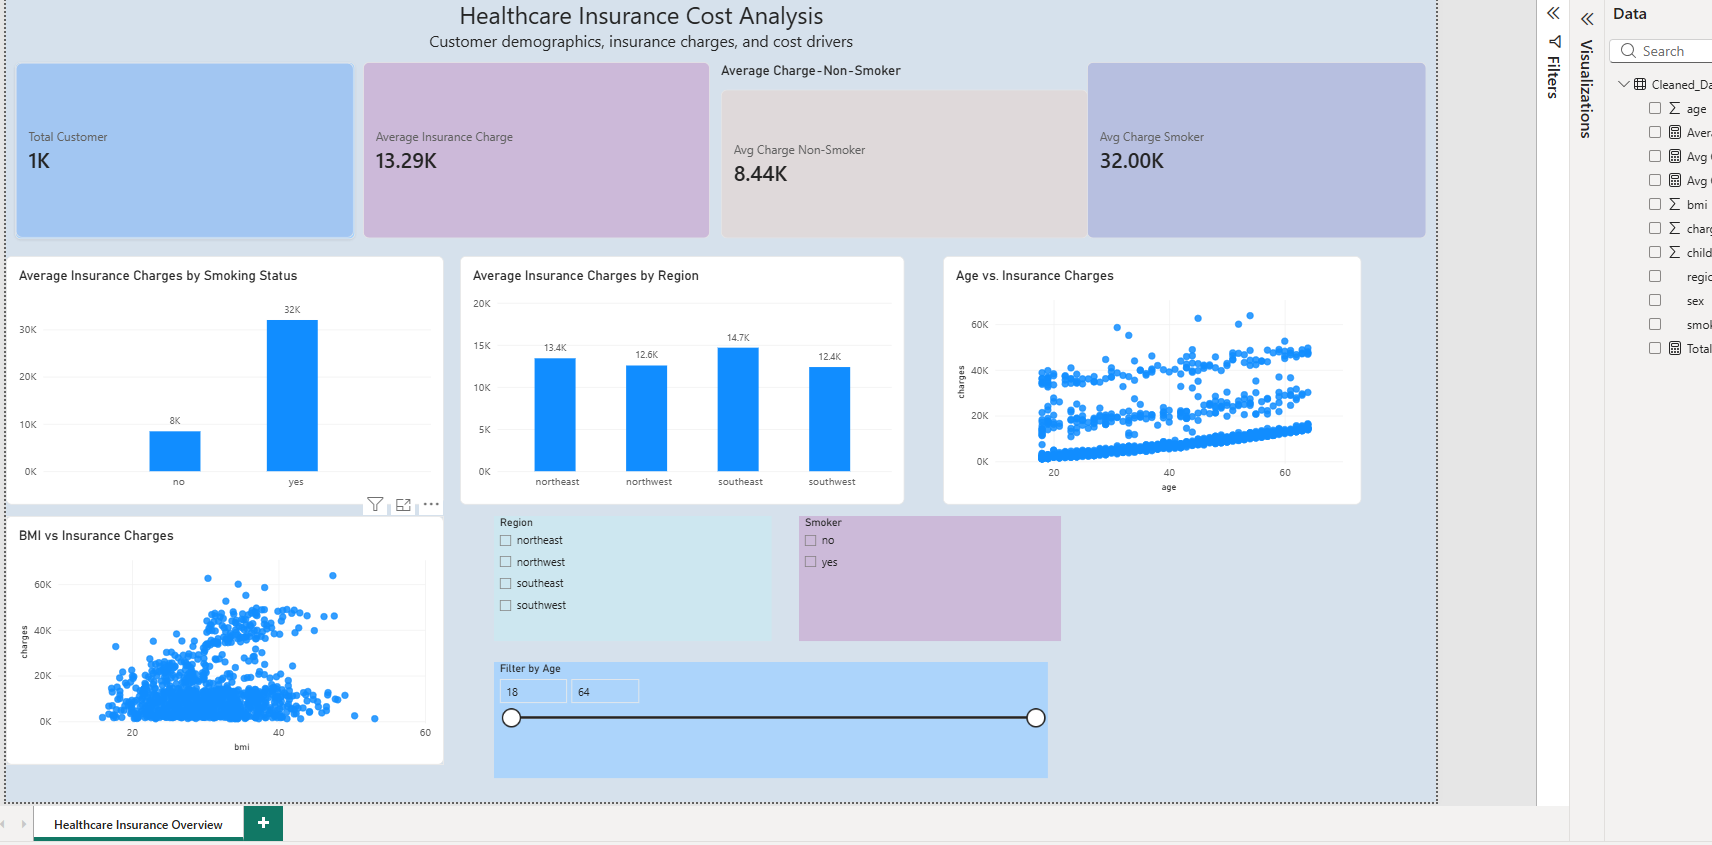

What the dashboard file says about the page in this screenshot:
{"tool":"powerbi","page":{"name":"Healthcare Insurance Overview","canvas":[1920,1080],"ordinal":0},"visuals":[{"type":"cardVisual","fields":{"Data":["Cleaned_Dat.Total Customer"]},"box":[11.7,86.1,456.7,237.8],"z":0},{"type":"cardVisual","fields":{"Data":["Cleaned_Dat.Average Insurance Charge"]},"box":[480,86.1,466.9,237.8],"z":1},{"type":"cardVisual","title":"Average Charge-Non-Smoker","fields":{"Data":["Cleaned_Dat.Avg Charge Non-Smoker"]},"box":[960,86.1,493.1,237.8],"z":2},{"type":"cardVisual","fields":{"Data":["Cleaned_Dat.Avg Charge Smoker"]},"box":[1451.7,86.1,456.7,237.8],"z":4},{"type":"clusteredColumnChart","title":"Average Insurance Charges by Smoking Status","fields":{"Category":["Cleaned_Dat.smoker"],"Y":["Avg(Cleaned_Dat.charges)"]},"box":[0,347.2,588,334.1],"z":5},{"type":"clusteredColumnChart","title":"Average Insurance Charges by Region","fields":{"Category":["Cleaned_Dat.region"],"Y":["Avg(Cleaned_Dat.charges)"]},"box":[609.8,347.2,596.7,334.1],"z":6},{"type":"scatterChart","title":"Age vs. Insurance Charges","fields":{"X":["Cleaned_Dat.age"],"Y":["Cleaned_Dat.charges"]},"box":[1259.1,347.2,561.7,334.1],"z":7},{"type":"scatterChart","title":"BMI vs Insurance Charges","fields":{"X":["Cleaned_Dat.bmi"],"Y":["Cleaned_Dat.charges"]},"box":[0,695.9,588,334.1],"z":8},{"type":"slicer","fields":{"Values":["Cleaned_Dat.region"]},"box":[655.1,695.9,373.5,167.8],"z":9},{"type":"textbox","box":[145.9,0,1413.7,72.9],"z":10},{"type":"slicer","fields":{"Values":["Cleaned_Dat.smoker"]},"box":[1065,695.9,351.6,167.8],"z":11},{"type":"slicer","fields":{"Values":["Cleaned_Dat.age"]},"box":[655.1,891.4,744.1,156.1],"z":12}]}

Visuals, with their boxes on the page's 1920x1080 design canvas (x1, y1, x2, y2). These are canvas units, not pixel positions in the 1712x845 screenshot, which may show the page scaled, cropped or inside an application window:
cardVisual - Cleaned_Dat.Total Customer: crop(12, 86, 468, 324)
cardVisual - Cleaned_Dat.Average Insurance Charge: crop(480, 86, 947, 324)
"Average Charge-Non-Smoker" cardVisual: crop(960, 86, 1453, 324)
cardVisual - Cleaned_Dat.Avg Charge Smoker: crop(1452, 86, 1908, 324)
"Average Insurance Charges by Smoking Status" clusteredColumnChart: crop(0, 347, 588, 681)
"Average Insurance Charges by Region" clusteredColumnChart: crop(610, 347, 1206, 681)
"Age vs. Insurance Charges" scatterChart: crop(1259, 347, 1821, 681)
"BMI vs Insurance Charges" scatterChart: crop(0, 696, 588, 1030)
slicer - Cleaned_Dat.region: crop(655, 696, 1029, 864)
textbox: crop(146, 0, 1560, 73)
slicer - Cleaned_Dat.smoker: crop(1065, 696, 1417, 864)
slicer - Cleaned_Dat.age: crop(655, 891, 1399, 1048)
